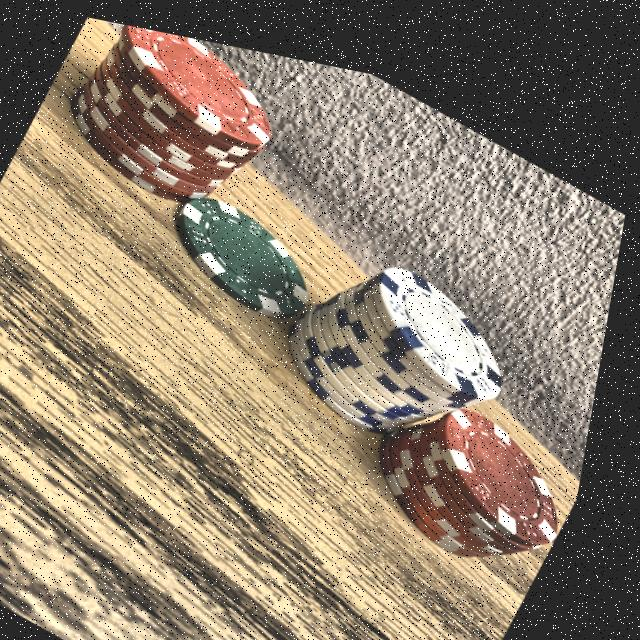Chip: (259, 185, 568, 493), (339, 311, 607, 592), (40, 11, 315, 252), (136, 132, 383, 348)
